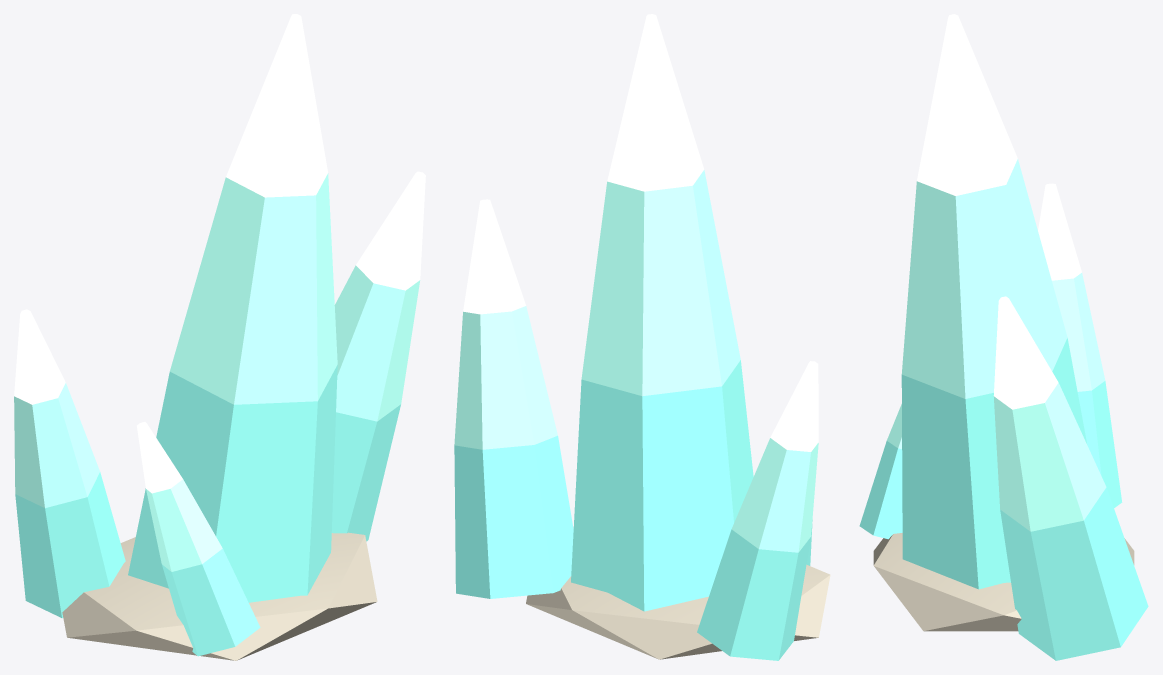
File: saltglass_crystal.glb
3 views of the same model, side by side, from view 1: azimuth 30°, elevation 25°; view 2: azimuth 150°, elevation 25°; view 3: azimuth 270°, elevation 25° (orthographic). The views are drawn at different scales.
Visible parts, largest first — view 1: saltglass_crystal; view 2: saltglass_crystal; view 3: saltglass_crystal.
Boxes of the visible parts, x1,y1,x2,y2 form: saltglass_crystal: (14,14,425,660); saltglass_crystal: (454,14,830,660); saltglass_crystal: (859,14,1148,660).
Bounding box in the file's own units: 0.6522 × 0.9999 × 0.4355.
